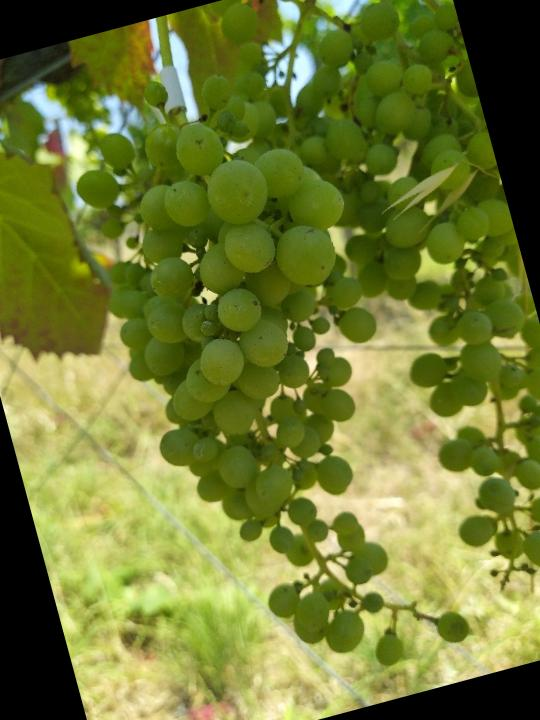grape: (53, 35, 480, 713)
